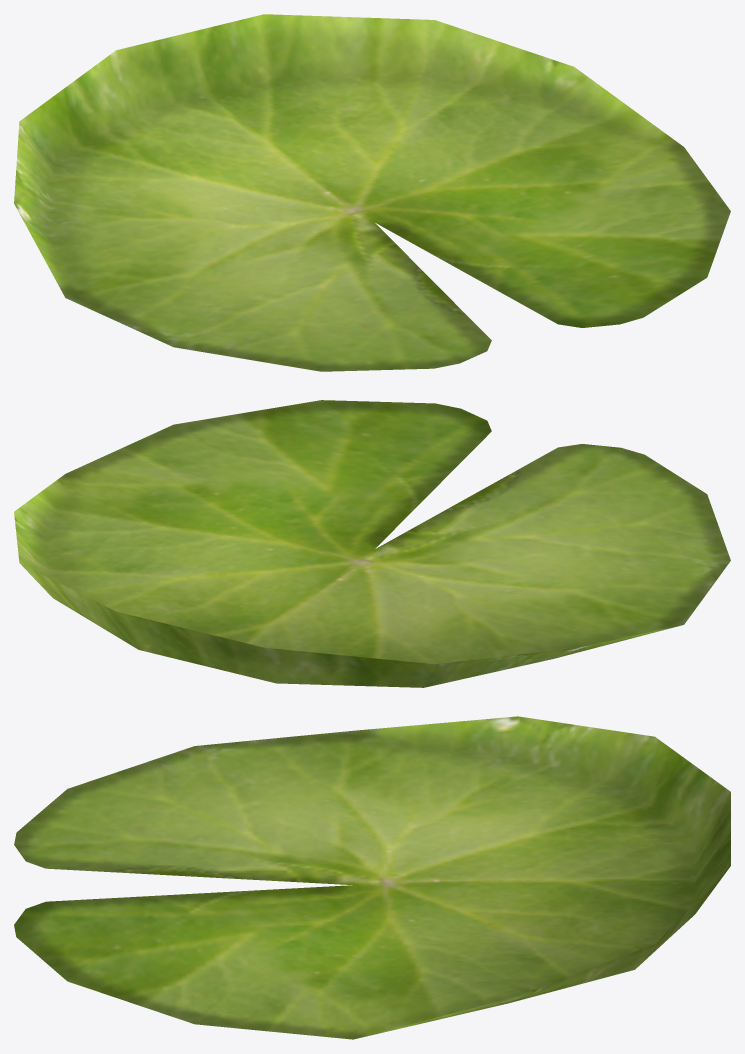
File: Waterlily_MedLeaf.FBX
3 views of the same model, one above another, from view 1: azimuth 30°, elevation 25°; view 2: azimuth 150°, elevation 25°; view 3: azimuth 270°, elevation 25° (orthographic). The views are drawn at different scales.
Visible parts, largest first — view 1: Waterlily_MedLeaf; view 2: Waterlily_MedLeaf; view 3: Waterlily_MedLeaf.
Boxes of the visible parts, box(x1,y1,x2,y2) form: Waterlily_MedLeaf: box(14, 14, 730, 371); Waterlily_MedLeaf: box(14, 400, 730, 687); Waterlily_MedLeaf: box(14, 716, 730, 1039).
Size of the model in its own units: 21.66 by 1.84 by 21.25.
